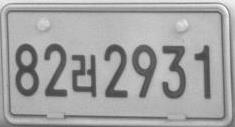1: (192, 44, 218, 99)
2: (103, 43, 128, 98), (43, 42, 67, 97)
3: (161, 44, 186, 100)
8: (14, 42, 39, 96)
9: (131, 43, 157, 98)
러: (71, 54, 97, 97)
